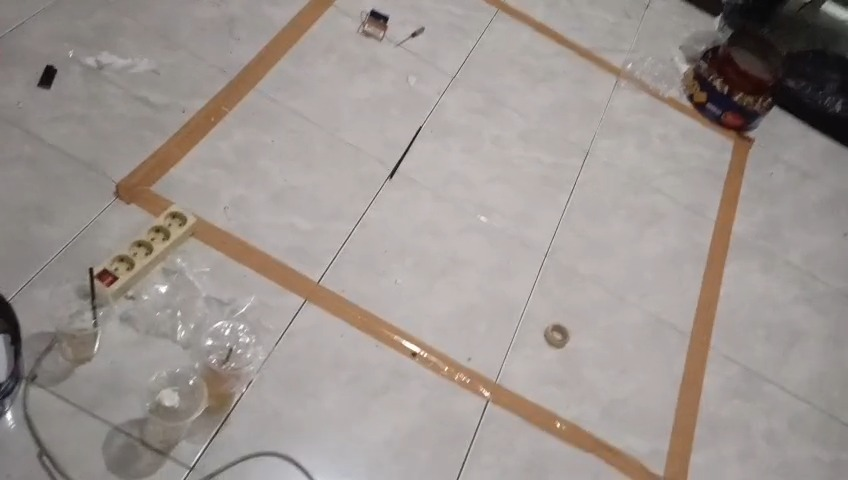floor marking: (194, 0, 753, 479), (117, 0, 334, 214)
